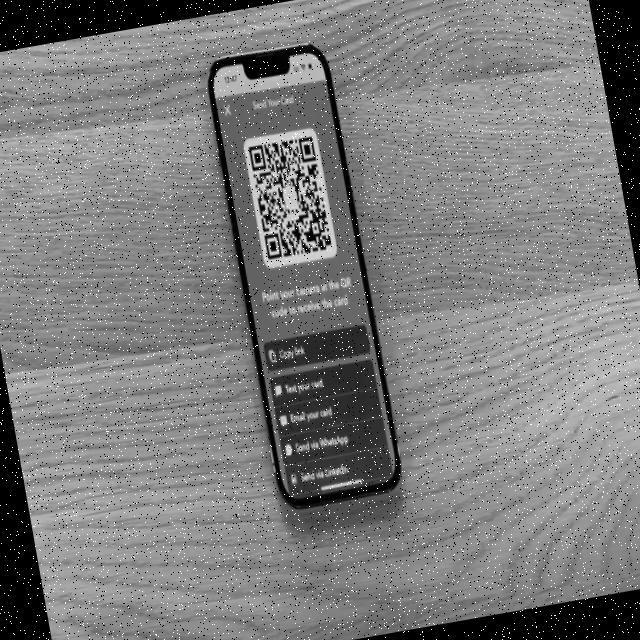QR-codes: (248, 132, 334, 260)
